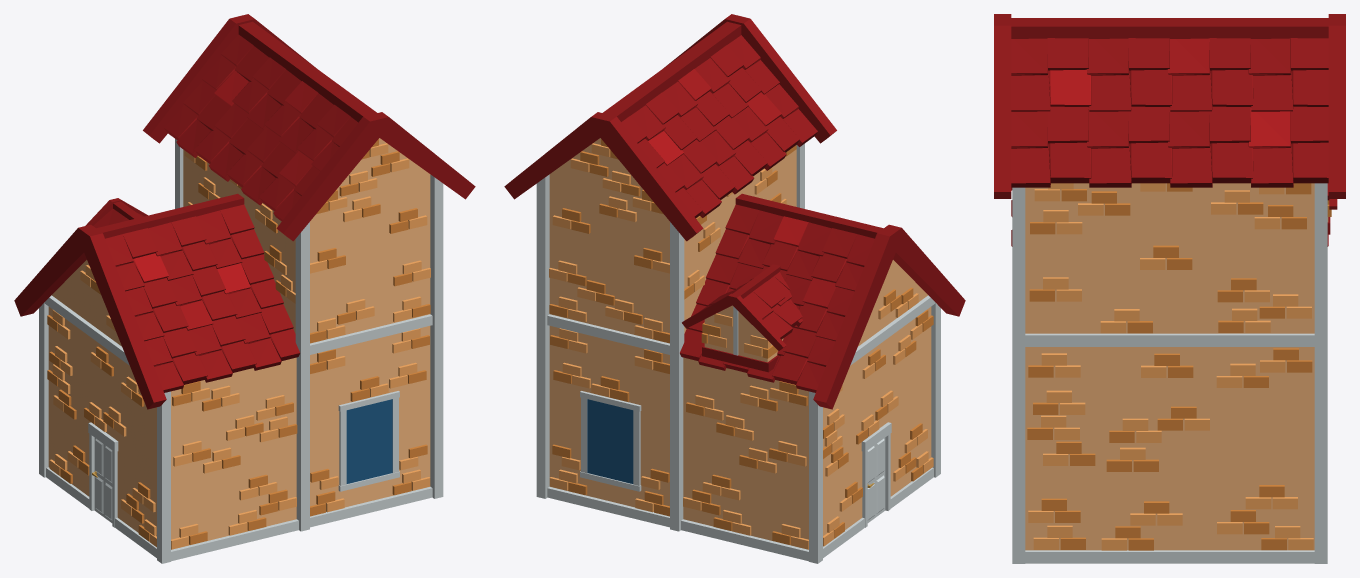
The model's file is SM_House_13.FBX.
3 renders of one model, left to right at view 1: azimuth 30°, elevation 25°; view 2: azimuth 150°, elevation 25°; view 3: azimuth 270°, elevation 25°, orthographic. The views are drawn at different scales.
Visible parts, largest first — view 1: SM_House_13; view 2: SM_House_13; view 3: SM_House_13.
Part boxes in pixels (left/top/right/bottom): SM_House_13: left=14, top=14, right=475, bottom=563; SM_House_13: left=504, top=14, right=965, bottom=563; SM_House_13: left=994, top=14, right=1345, bottom=563.
Size of what is drawn, in the model's own units: 945 by 716 by 1125.
